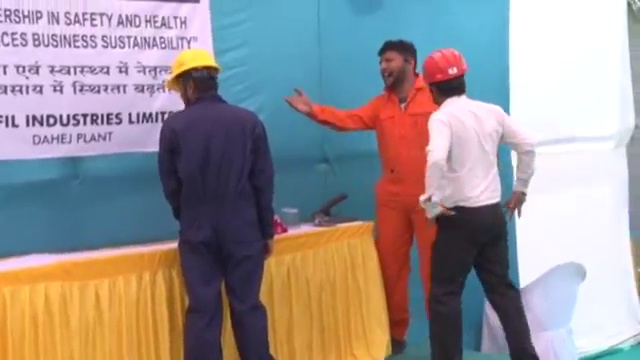helmet: (167, 49, 221, 91), (421, 47, 470, 84)
helmet_off: (378, 35, 419, 90)
helmet_on: (166, 48, 223, 105), (420, 47, 472, 103)
person: (283, 35, 438, 350), (419, 49, 540, 360), (158, 48, 275, 360)
